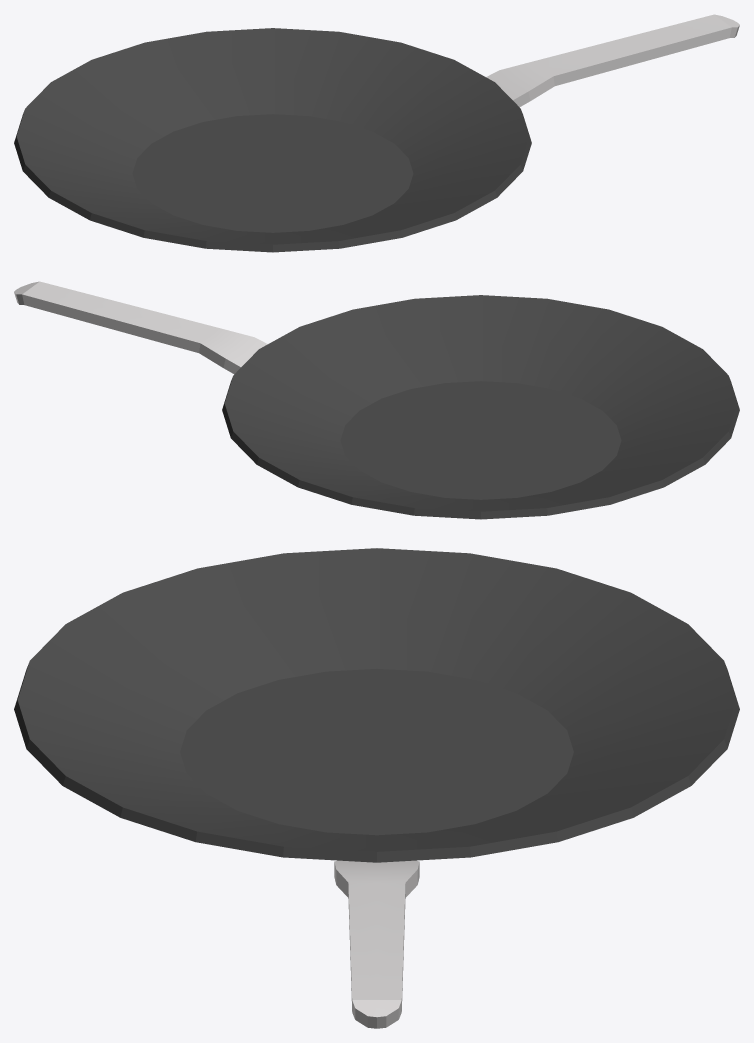
File: asset_tava.fbx
The picture shows the model from 3 angles, top to bottom: view 1: azimuth 30°, elevation 25°; view 2: azimuth 150°, elevation 25°; view 3: azimuth 270°, elevation 25°; orthographic projection. The views are drawn at different scales.
Visible parts, largest first — view 1: tava_govde; view 2: tava_govde; view 3: tava_govde.
Boxes of the visible parts, x1,y1,x2,y2 form: tava_govde: (14, 14, 739, 252); tava_govde: (14, 281, 739, 519); tava_govde: (14, 548, 739, 1028).
Bounding box in the file's own units: 82.94 × 5.71 × 54.
Materials: 2 (1 with a texture image).
